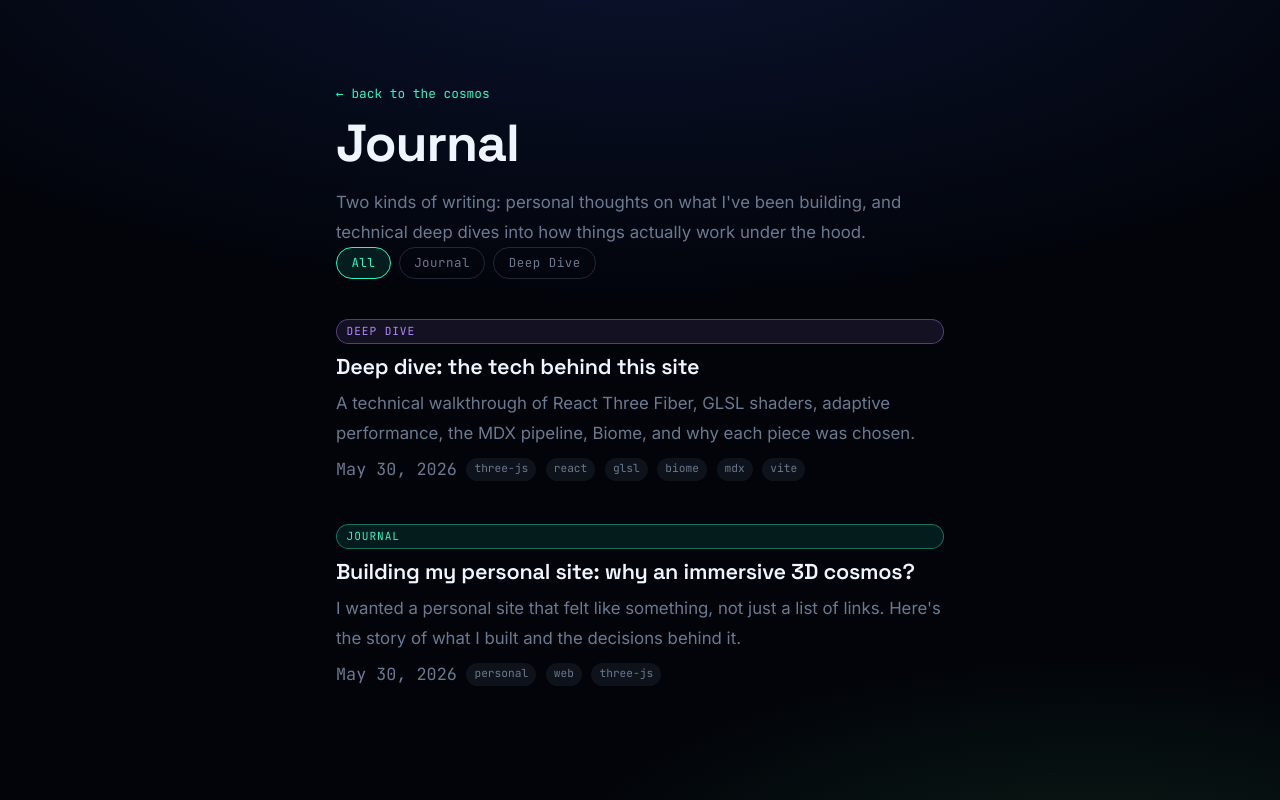
<Blog /> › filters to only journal posts when Journal is pressed
This screenshot has width=1280, height=800.
Click the button "Journal".
click(442, 263)  # box [399,247,485,279]
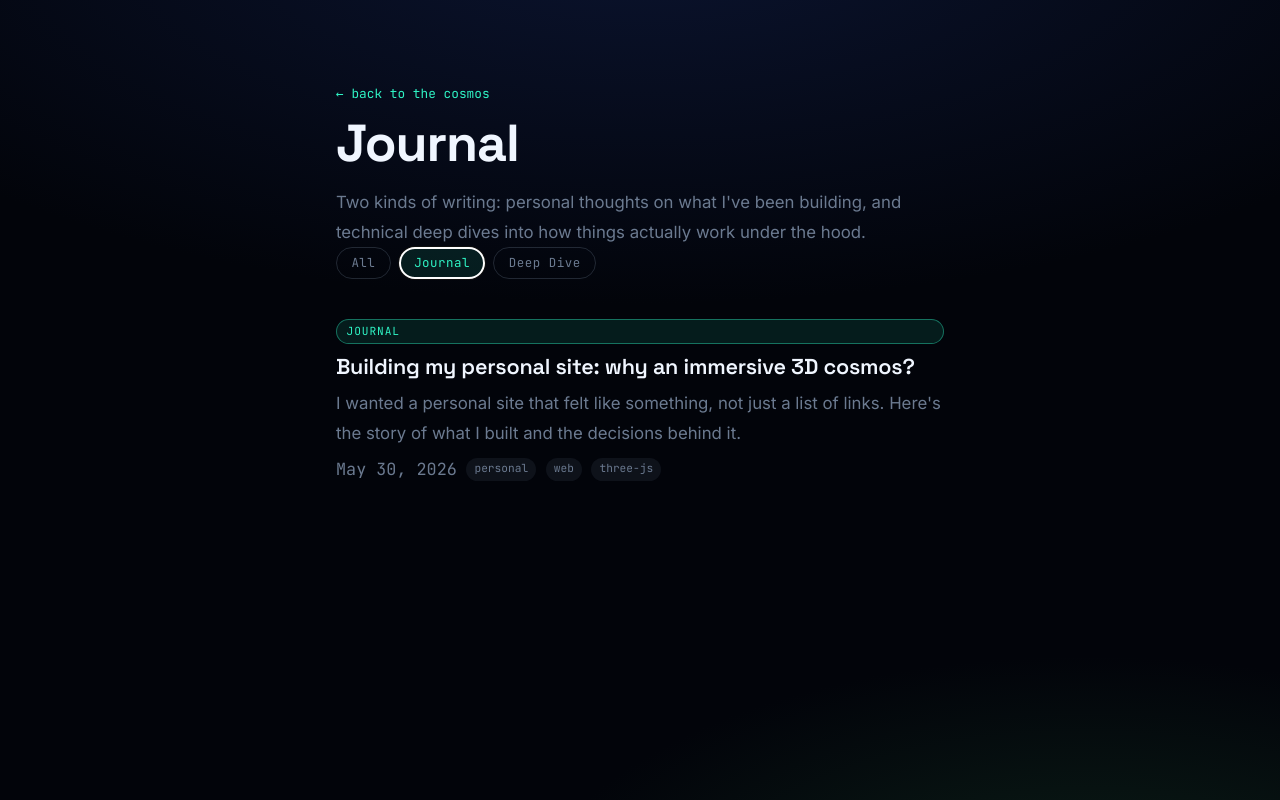
Expected: the number of list items is 1, [336,319,944,484]
